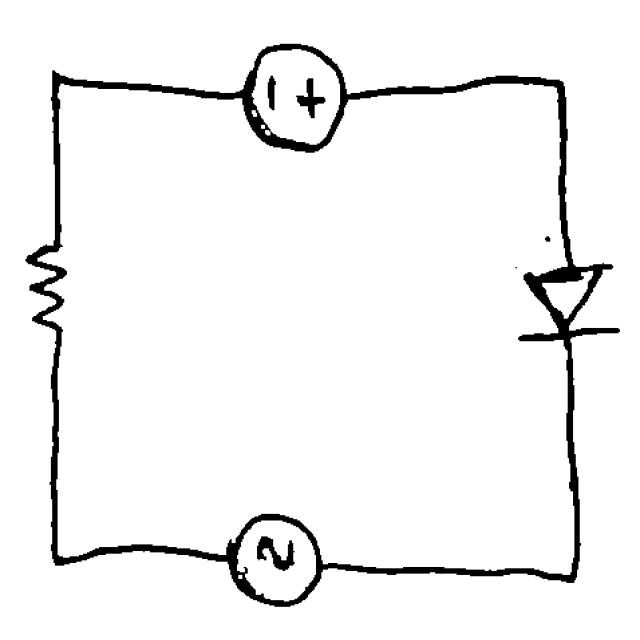ac: (217, 499, 328, 616)
dc: (230, 25, 360, 162)
resistor: (504, 246, 630, 354), (18, 229, 80, 349)
